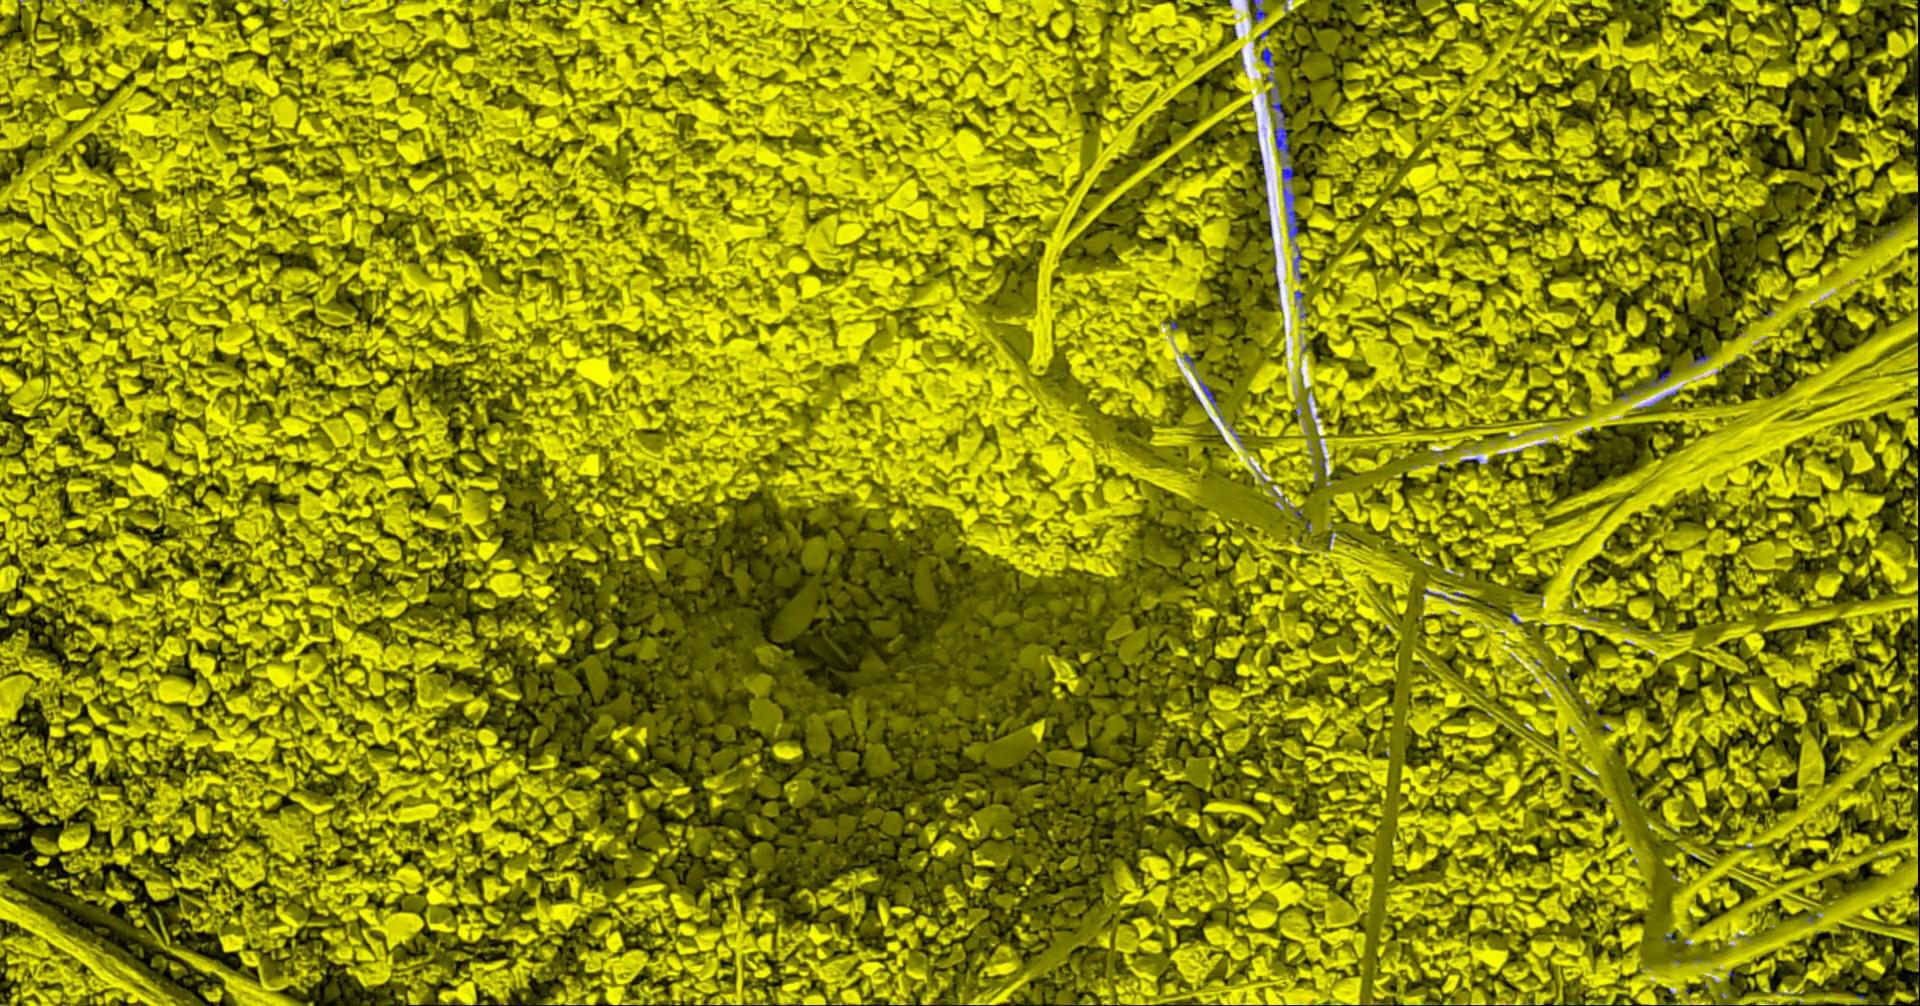ant: (1270, 102, 1289, 155), (1283, 188, 1298, 238), (1641, 370, 1670, 387), (1247, 0, 1266, 22), (1197, 381, 1215, 403), (1261, 47, 1275, 66), (1281, 166, 1293, 180)
